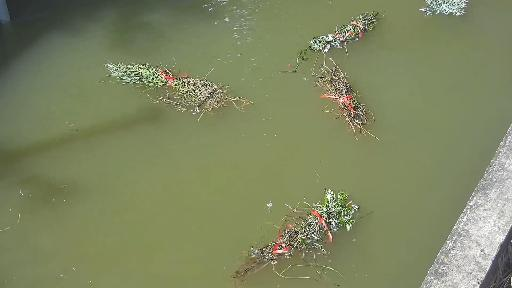twig: (100, 56, 289, 125), (230, 194, 367, 282), (292, 8, 398, 67), (313, 69, 391, 148), (414, 0, 495, 14)
